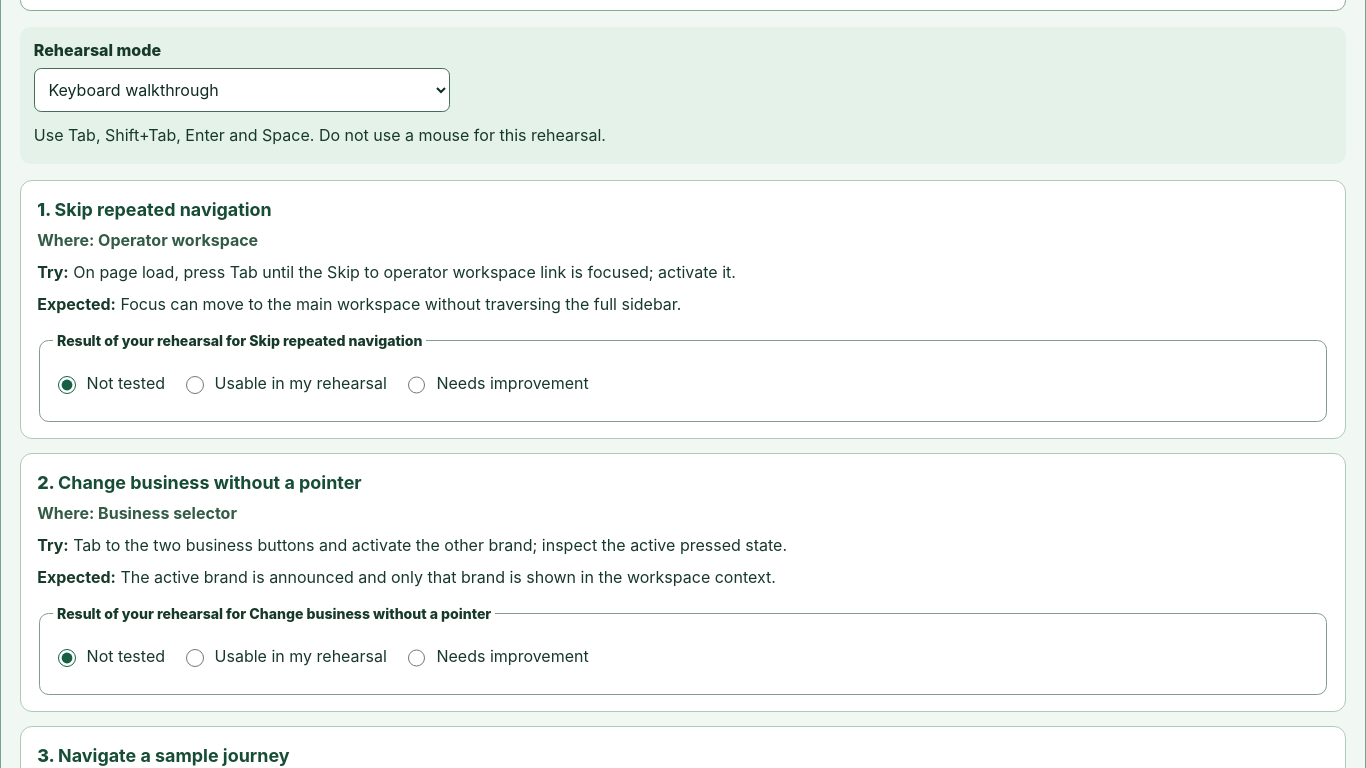
Test case: QL-183 operator accessibility rehearsal UI › records preset feedback in memory across modes and flags improvement without sending anything
This screenshot has width=1366, height=768.
(page scrolled)
Click the radio button named "ql183-key_skip" at (417, 385), box [408,376,426,394]
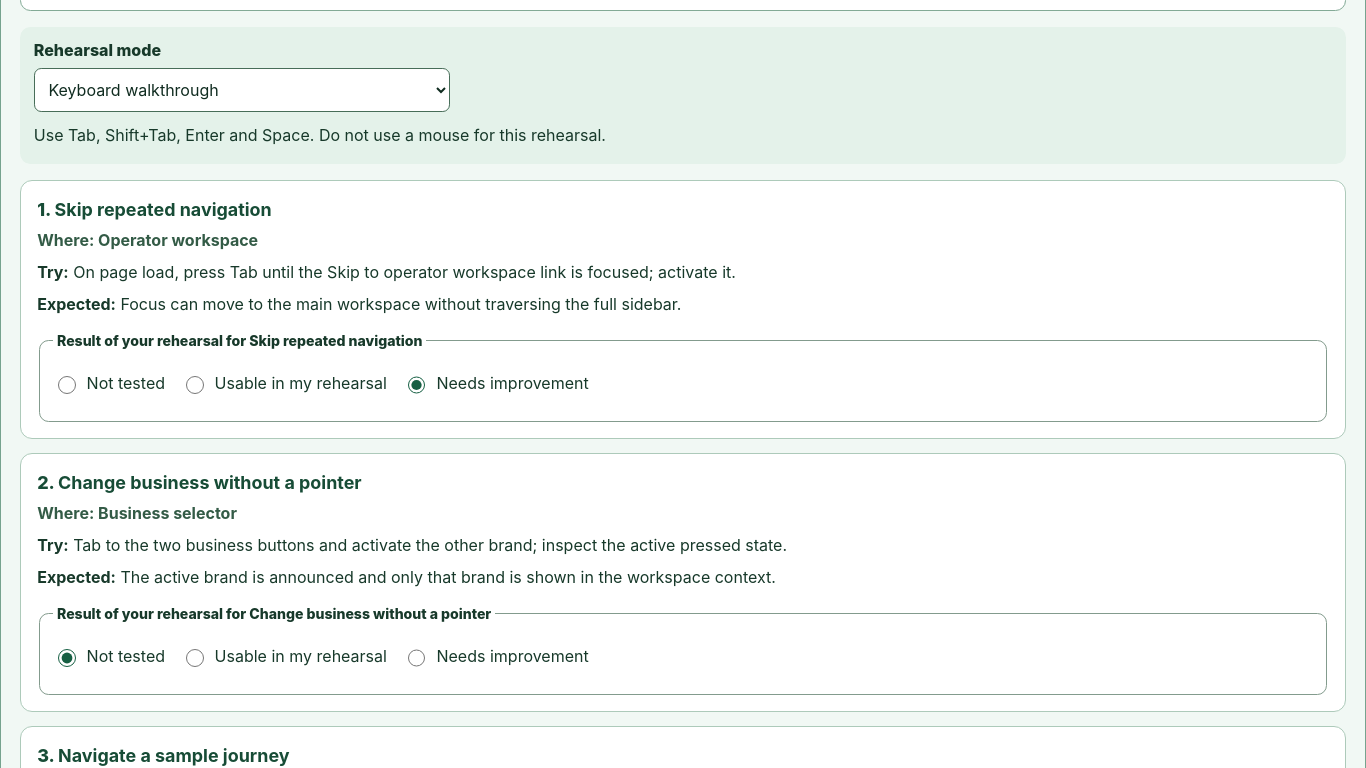
Select "Screen-reader walkthrough" in the dropdown labelled "Rehearsal mode" at (242, 90), box [34,68,450,112]
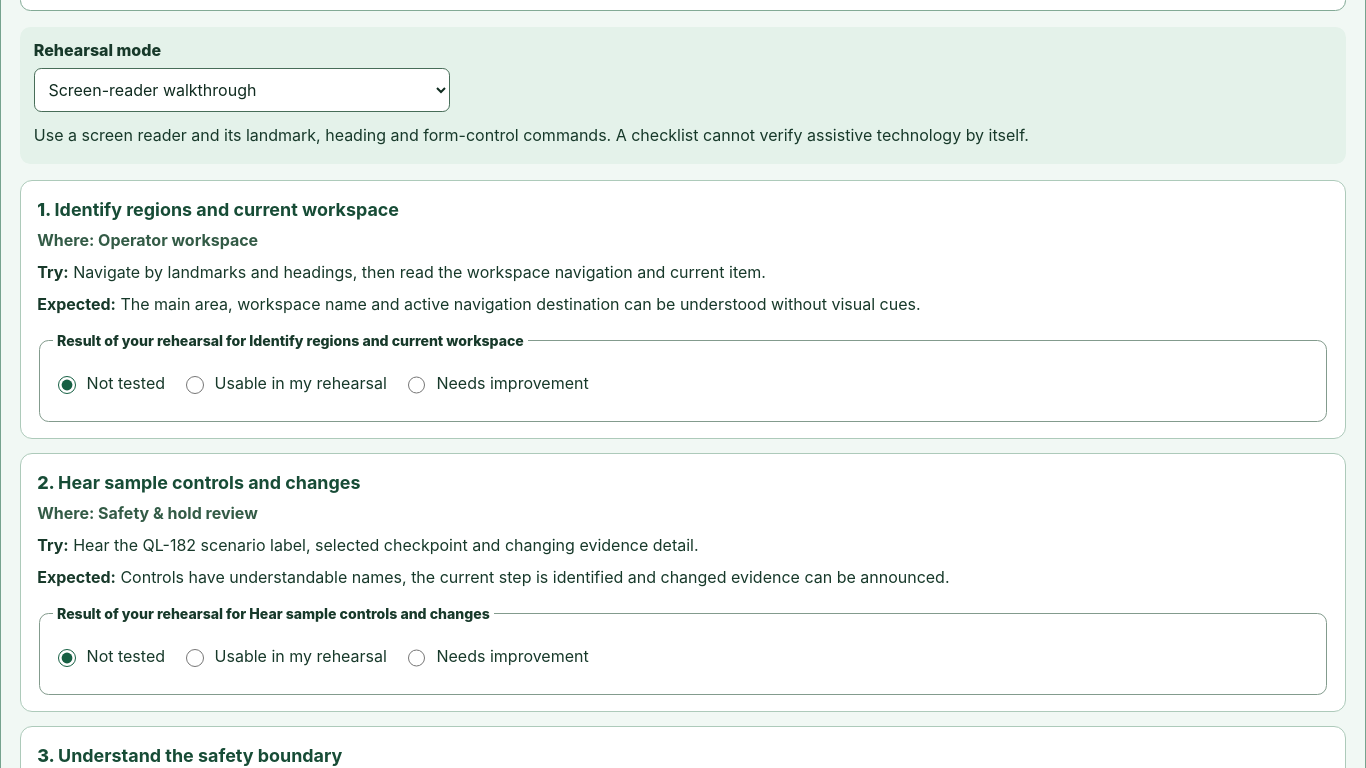
Result: the text "screen reader and its landmark" is shown at [34,125,1029,145]
Click the radio button named "ql183-sr_landmarks" at (195, 385), box [186,376,204,394]
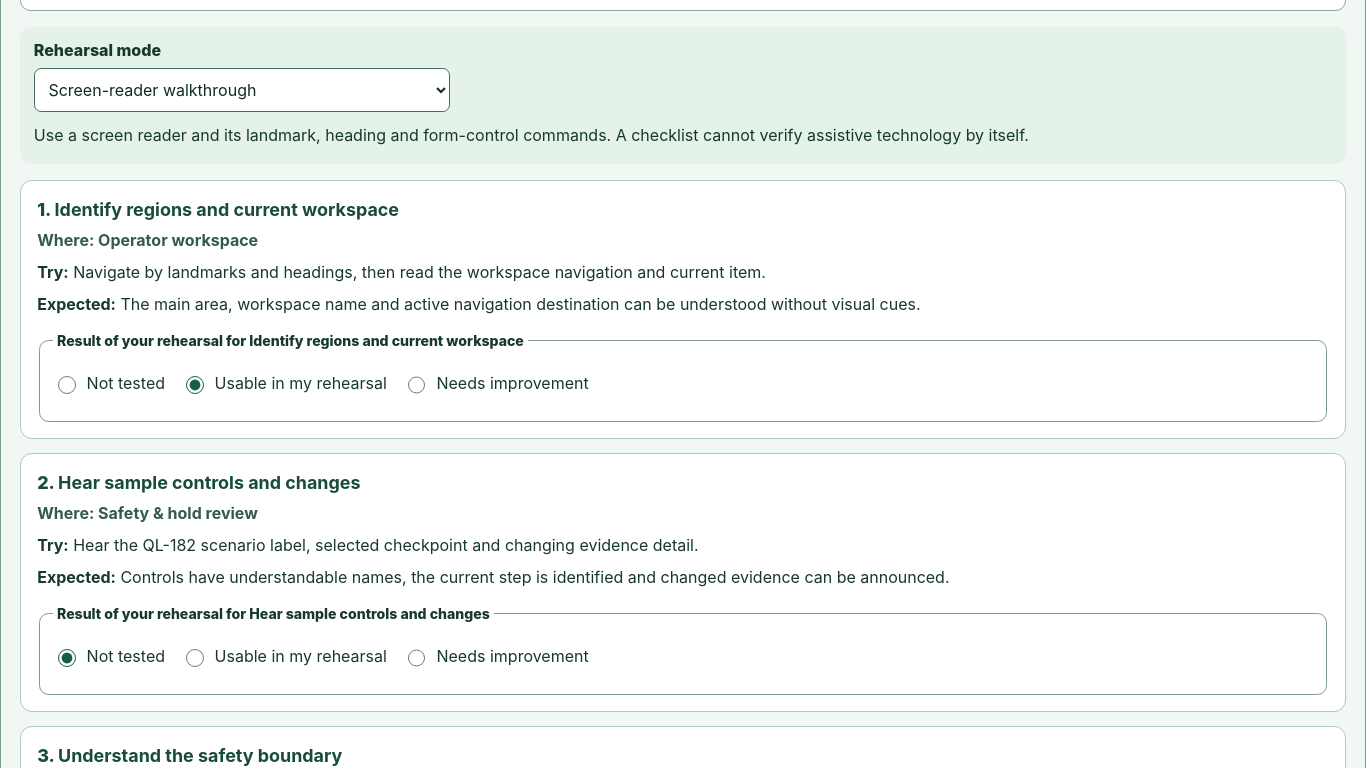
Select "Mobile walkthrough" in the dropdown labelled "Rehearsal mode" at (242, 90), box [34,68,450,112]
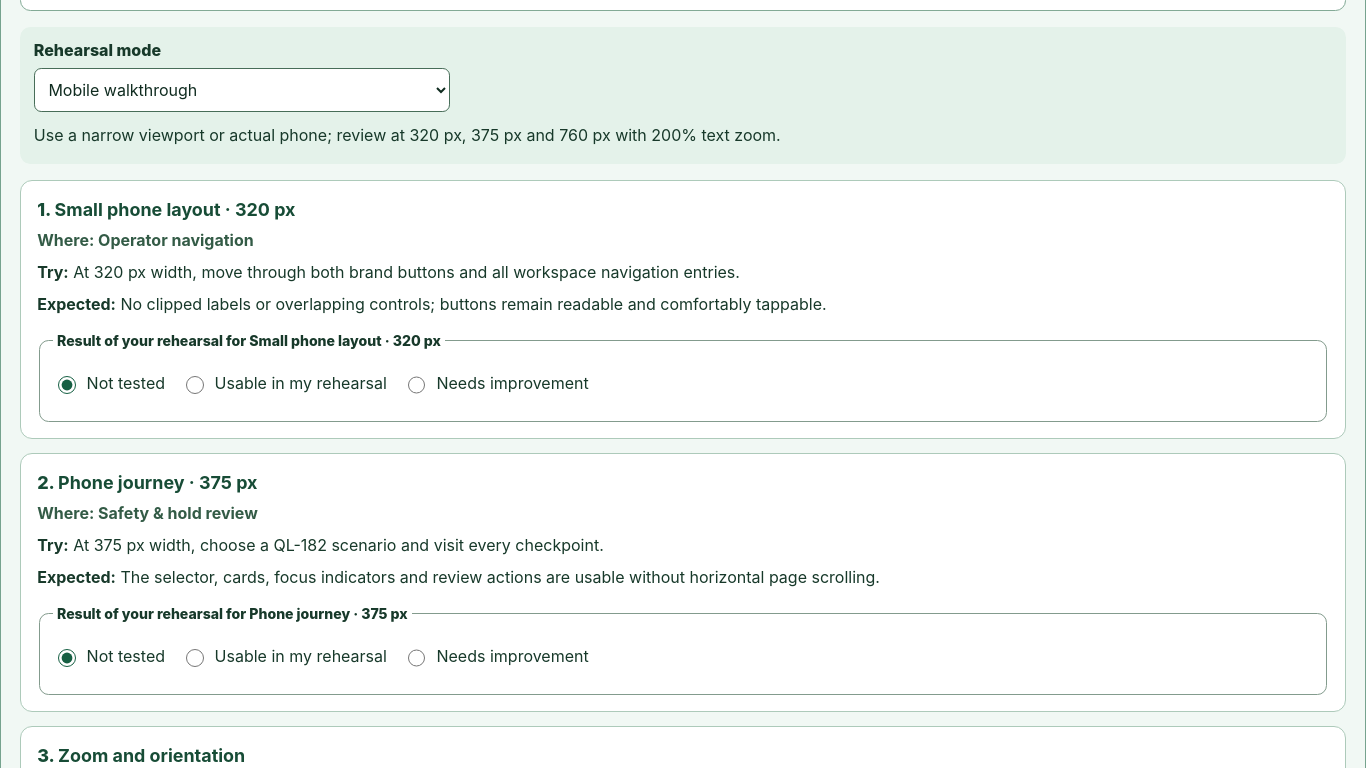
Result: the text "320 px" is shown at [34,125,781,145]
Result: the text "200% text zoom" is shown at [34,125,781,145]
